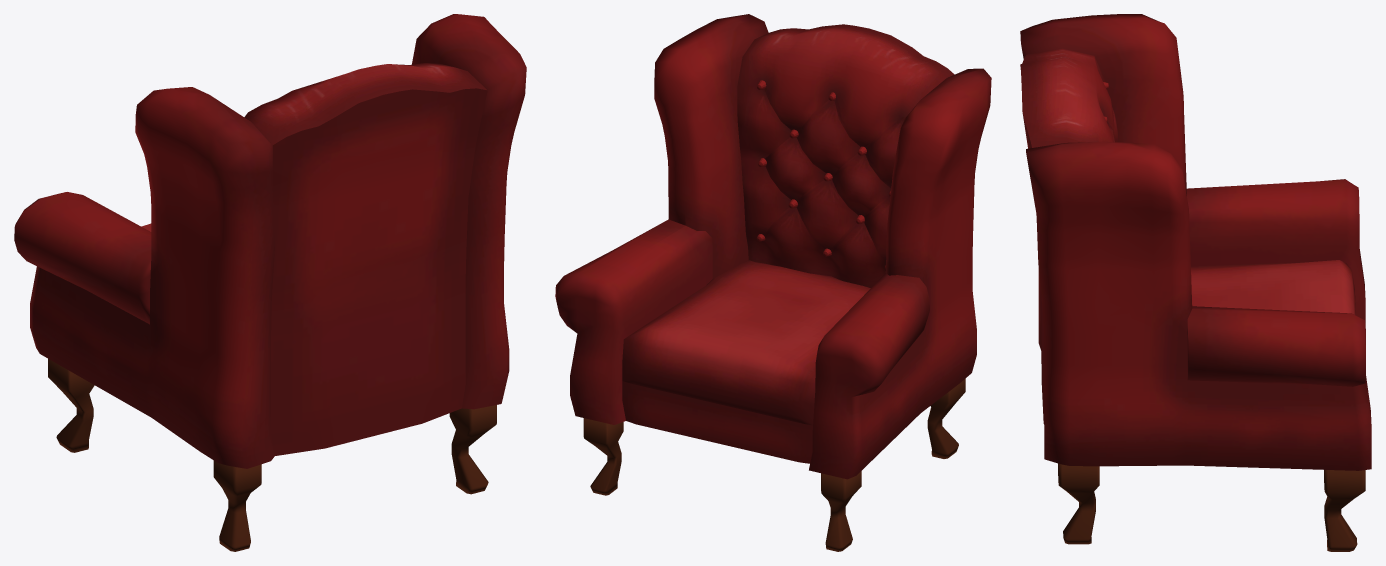
Rendered from Onion_Armchair (1).fbx.
3 views of the same model, side by side, from view 1: azimuth 30°, elevation 25°; view 2: azimuth 150°, elevation 25°; view 3: azimuth 270°, elevation 25° (orthographic). The views are drawn at different scales.
Visible parts, largest first — view 1: Onion_Armchair (1); view 2: Onion_Armchair (1); view 3: Onion_Armchair (1).
Part boxes in pixels (left/top/right/bottom): Onion_Armchair (1): left=14, top=14, right=526, bottom=551; Onion_Armchair (1): left=555, top=14, right=991, bottom=551; Onion_Armchair (1): left=1020, top=14, right=1371, bottom=551.
Size of the model in its own units: 1.71 by 1.95 by 1.49.
1 material, 1 textured.
